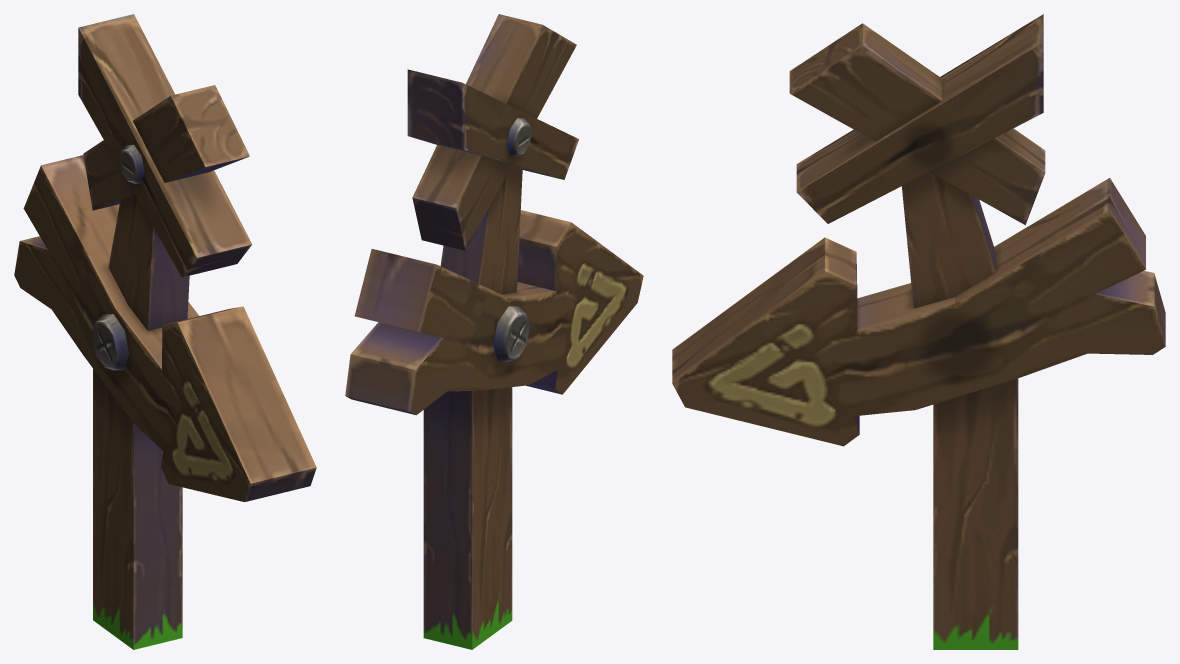
File: scenes_town_arrow01.FBX
3 renders of one model, left to right at view 1: azimuth 30°, elevation 25°; view 2: azimuth 150°, elevation 25°; view 3: azimuth 270°, elevation 25°, orthographic. The views are drawn at different scales.
Parts seen in each view (by area): view 1: scenes_town_arrow01; view 2: scenes_town_arrow01; view 3: scenes_town_arrow01.
Boxes of the visible parts, x1,y1,x2,y2 form: scenes_town_arrow01: (14, 14, 316, 649); scenes_town_arrow01: (345, 14, 643, 649); scenes_town_arrow01: (672, 14, 1165, 649).
Size of the model in its own units: 69.53 by 515 by 378.
